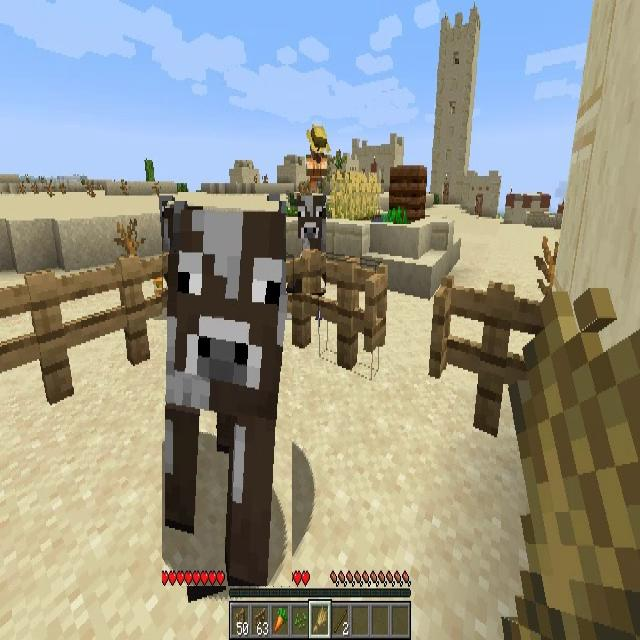cow: (162, 201, 292, 586), (286, 193, 326, 293)
people: (306, 126, 330, 205)
